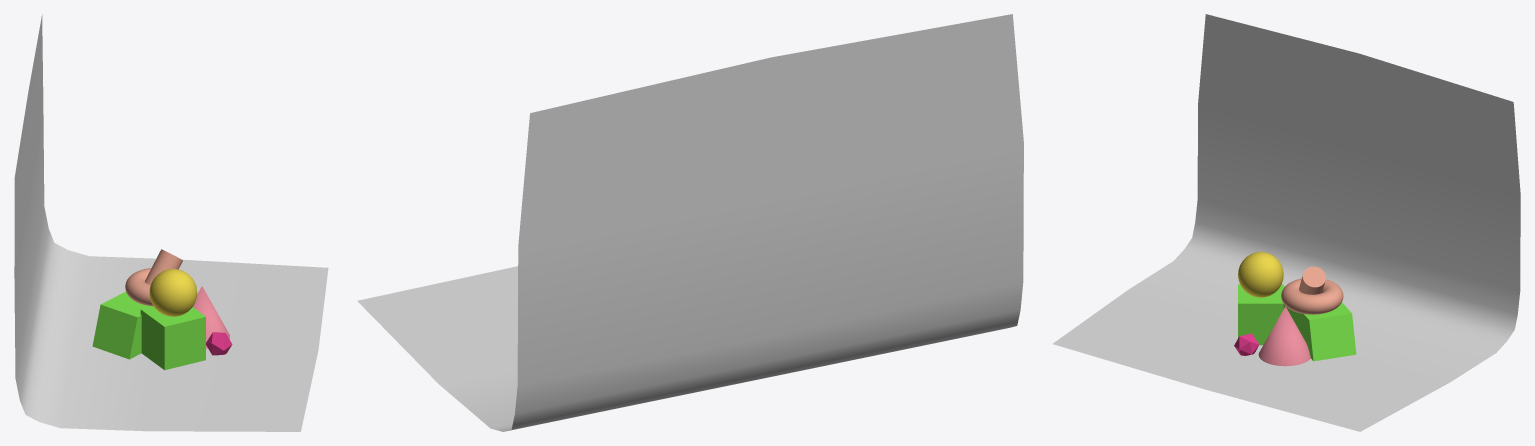
File: blankGLTFrender.glb
3 renders of one model, left to right at view 1: azimuth 30°, elevation 25°; view 2: azimuth 150°, elevation 25°; view 3: azimuth 270°, elevation 25°, orthographic. The views are drawn at different scales.
Parts seen in each view (by area): view 1: WHITE, Cube, Cube.001, Sphere, Cone, Torus.001, Cylinder, Icosphere; view 2: WHITE; view 3: WHITE, Cube.001, Cube, Cone, Sphere, Torus.001, Cylinder.
Boxes of the visible parts, left/top/right/bottom form: WHITE: left=14, top=14, right=328, bottom=431; Cube: left=140, top=306, right=205, bottom=370; Cube.001: left=92, top=291, right=151, bottom=359; Sphere: left=149, top=269, right=197, bottom=316; Cone: left=193, top=286, right=230, bottom=348; Torus.001: left=125, top=268, right=153, bottom=306; Cylinder: left=145, top=249, right=182, bottom=284; Icosphere: left=206, top=332, right=232, bottom=355; WHITE: left=357, top=14, right=1023, bottom=431; WHITE: left=1053, top=14, right=1520, bottom=431; Cube.001: left=1283, top=286, right=1356, bottom=361; Cube: left=1238, top=284, right=1283, bottom=345; Cone: left=1258, top=306, right=1310, bottom=366; Sphere: left=1238, top=252, right=1283, bottom=297; Torus.001: left=1281, top=278, right=1343, bottom=314; Cylinder: left=1299, top=266, right=1325, bottom=294.
Bounding box in the file's own units: 19.21 × 11.6 × 20.47.
